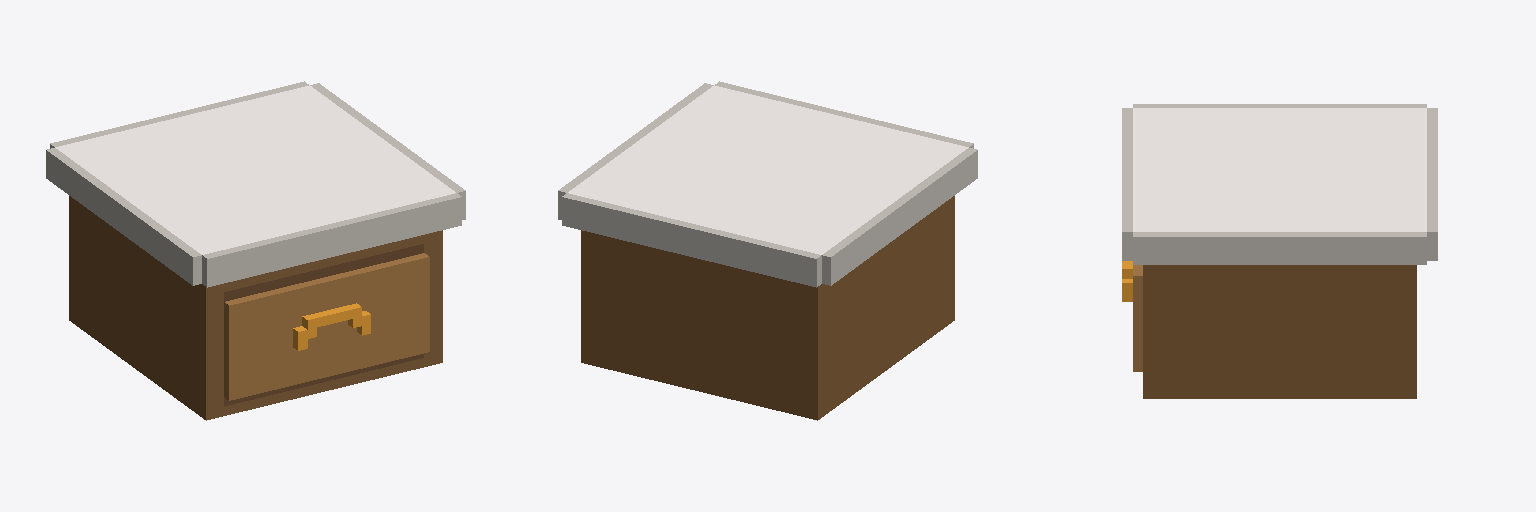
3 renders of one model, left to right at view 1: azimuth 30°, elevation 25°; view 2: azimuth 150°, elevation 25°; view 3: azimuth 270°, elevation 25°, orthographic.
Visible parts, largest first — view 1: object 1; view 2: object 1; view 3: object 1.
Part boxes in pixels (left/top/right/bottom): object 1: left=46, top=81, right=465, bottom=420; object 1: left=558, top=81, right=977, bottom=420; object 1: left=1122, top=104, right=1437, bottom=398.
Bounding box in the file's own units: 3 × 1.8 × 3.
1 materials, 1 textured.